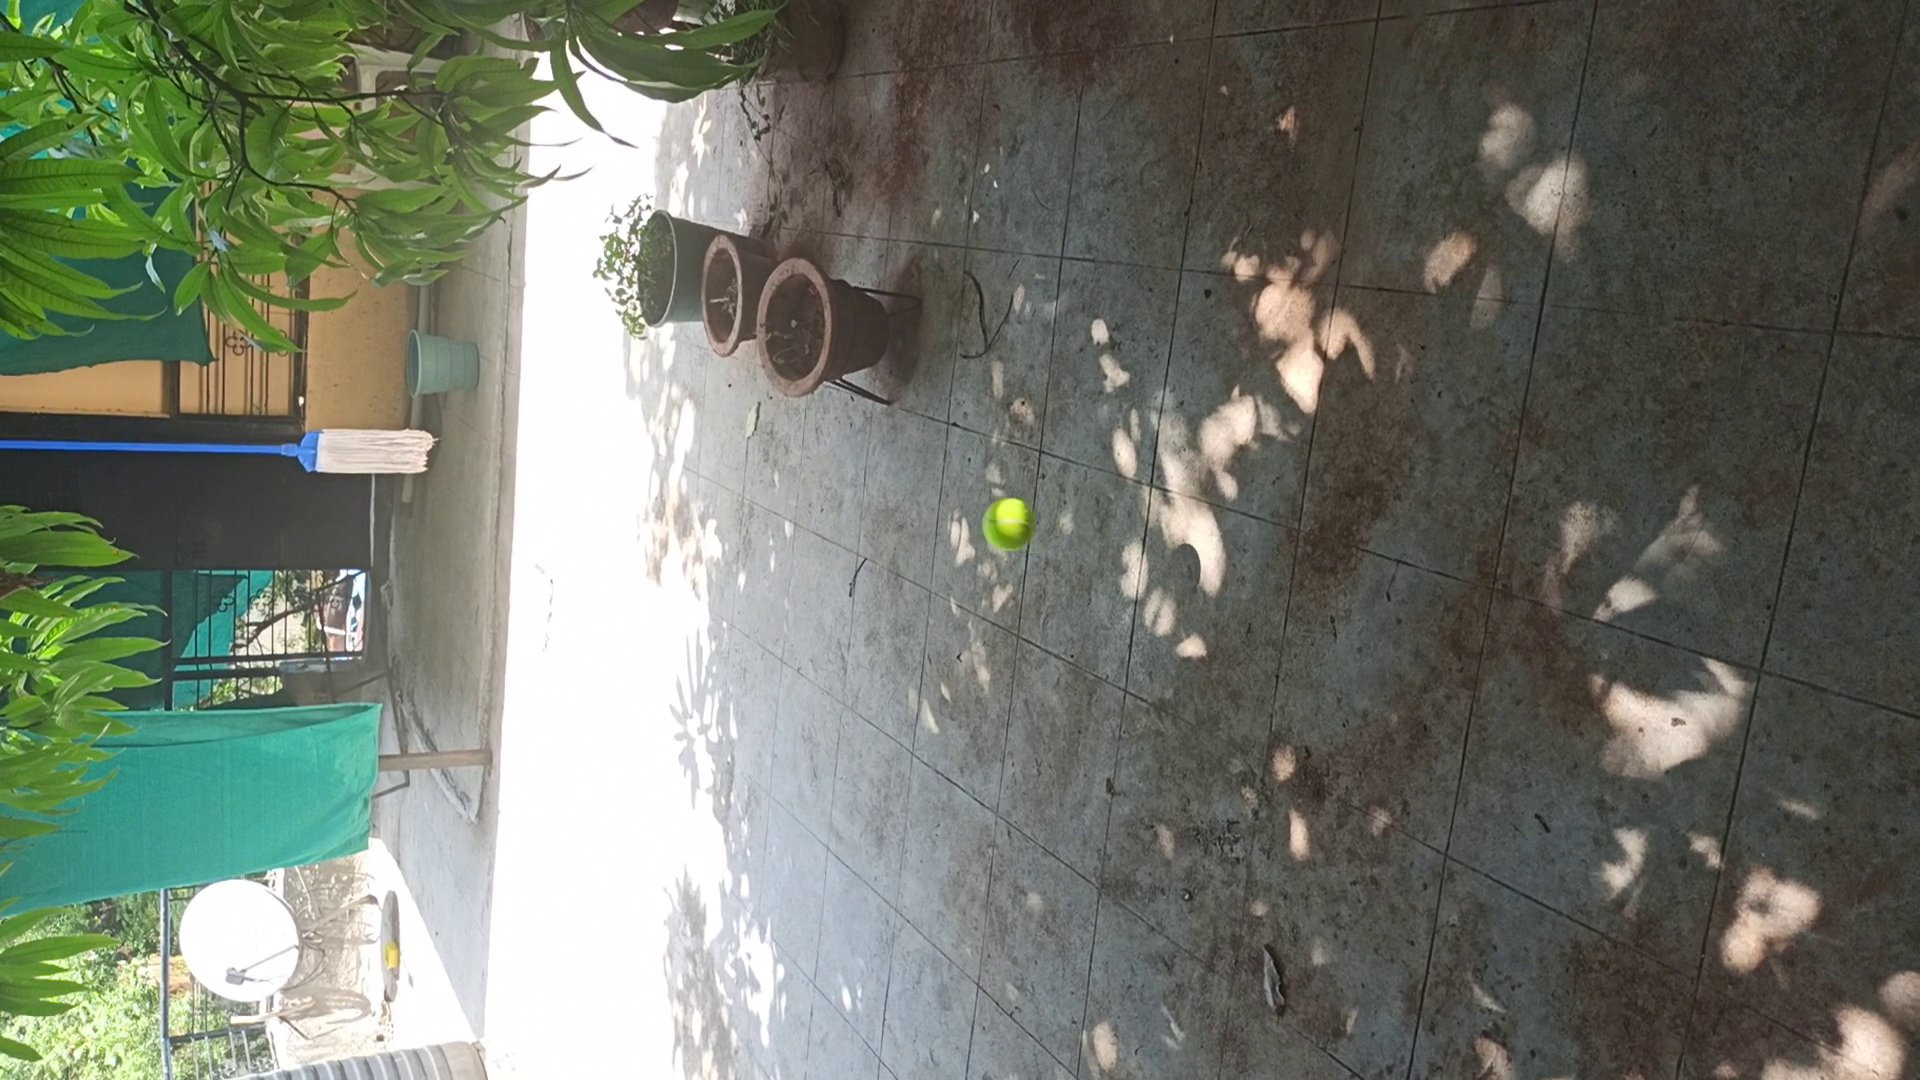Tennis-Ball: (982, 498, 1036, 550)
